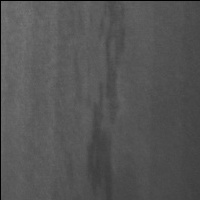inclusion: (82, 4, 124, 200)
